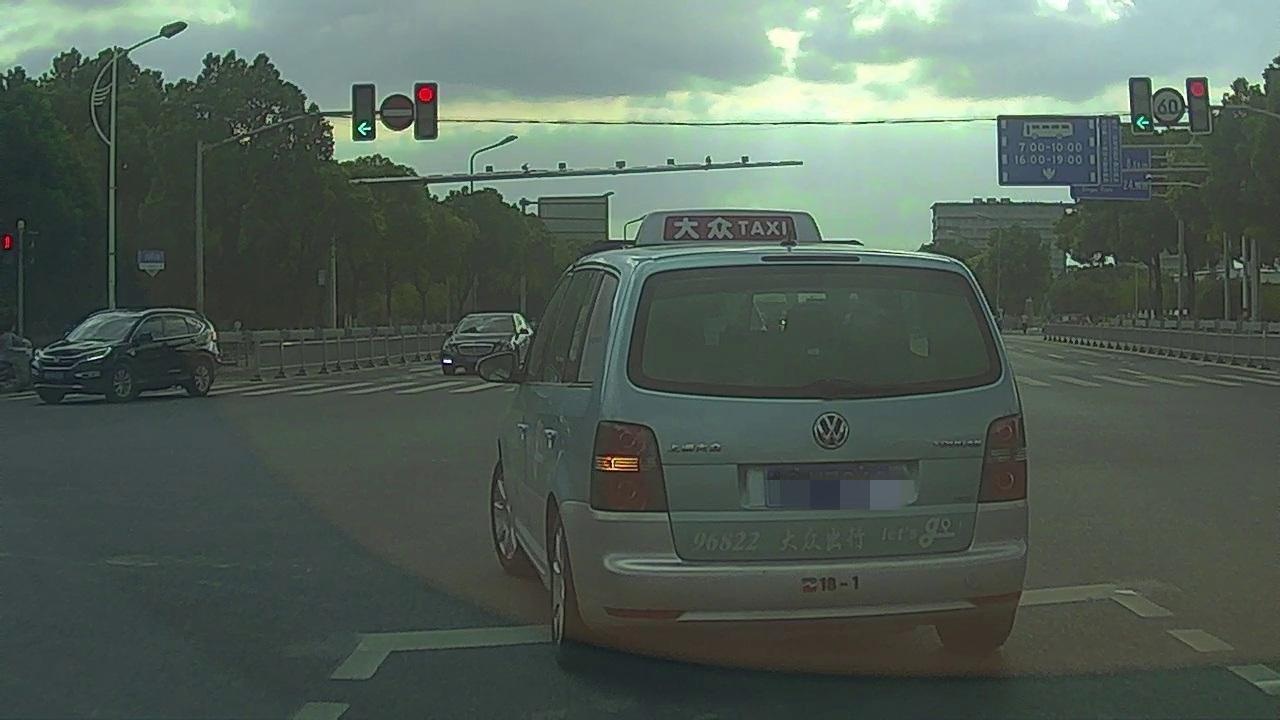traffic_light: (352, 83, 376, 142), (415, 83, 438, 140), (1129, 79, 1152, 134), (1189, 79, 1209, 132)
